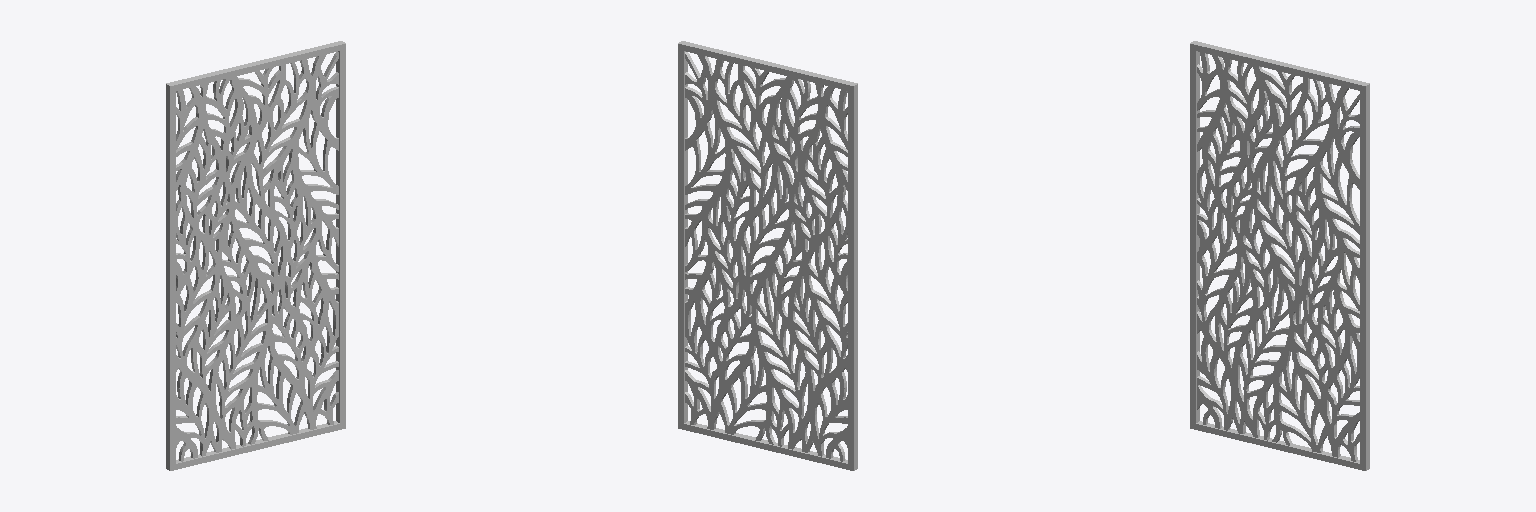
Rendered from Decorative_panel_OBJ.obj.
3 views of the same model, side by side, from view 1: azimuth 30°, elevation 25°; view 2: azimuth 150°, elevation 25°; view 3: azimuth 330°, elevation 25° (orthographic).
Visible parts, largest first — view 1: decorative_panel_3, frame_3; view 2: decorative_panel_3, frame_3; view 3: decorative_panel_3, frame_3.
Boxes of the visible parts, x1,y1,x2,y2 form: decorative_panel_3: [176, 52, 338, 461]; frame_3: [166, 41, 345, 470]; decorative_panel_3: [685, 52, 847, 461]; frame_3: [678, 41, 857, 470]; decorative_panel_3: [1197, 52, 1359, 461]; frame_3: [1190, 41, 1369, 470].
Size of the model in its own units: 1285 by 2685 by 50.